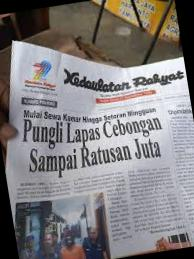Kertas: (6, 41, 194, 259)
